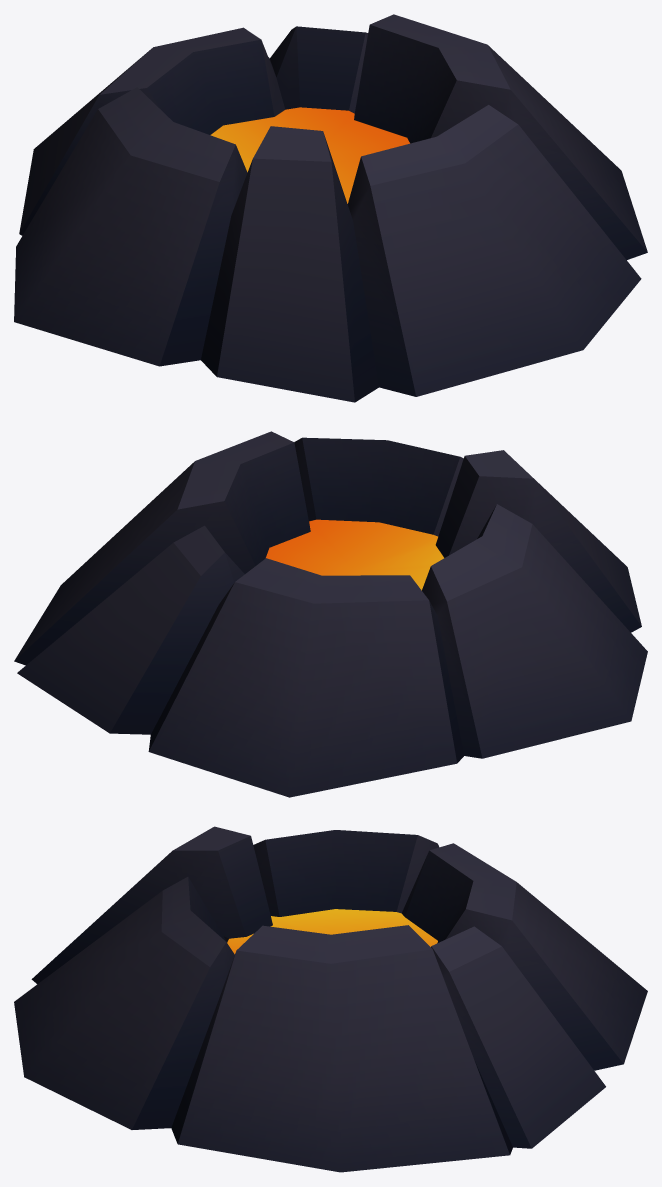
Rendered from SM_VU_Crater.FBX.
3 renders of one model, top to bottom at view 1: azimuth 30°, elevation 25°; view 2: azimuth 150°, elevation 25°; view 3: azimuth 270°, elevation 25°, orthographic. The views are drawn at different scales.
Visible parts, largest first — view 1: Cylinder001; view 2: Cylinder001; view 3: Cylinder001.
Part boxes in pixels (x1,y1,x2,y2): Cylinder001: [14, 14, 647, 402]; Cylinder001: [14, 431, 647, 797]; Cylinder001: [14, 826, 647, 1172].
Bounding box in the file's own units: 343 × 97.7 × 343.
